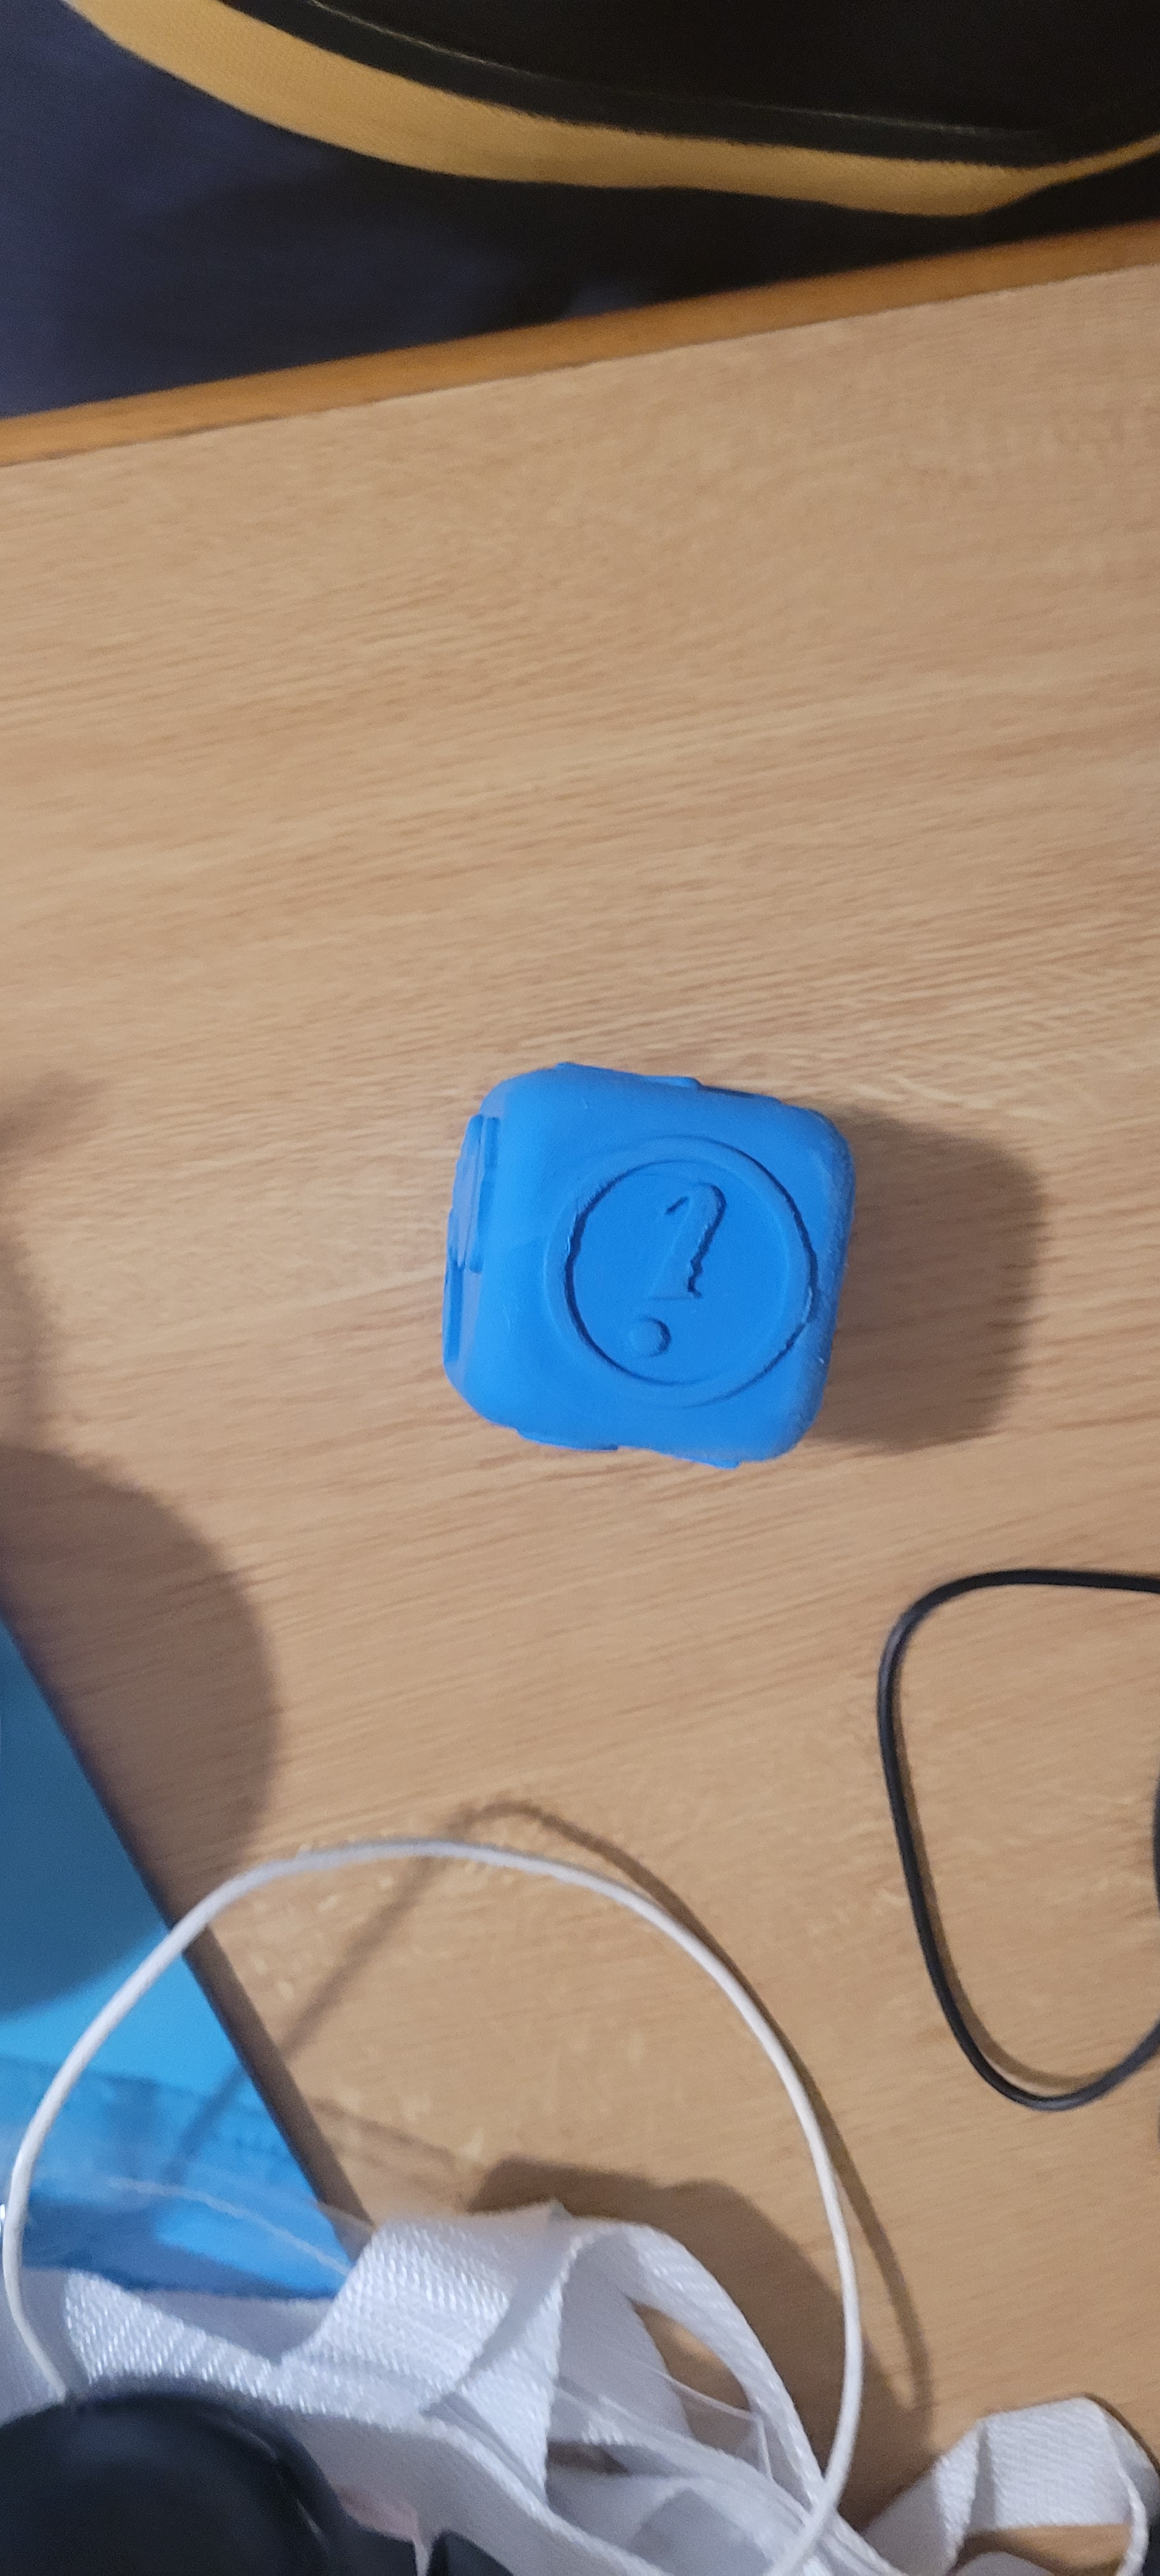Info: (526, 1112, 822, 1421)
